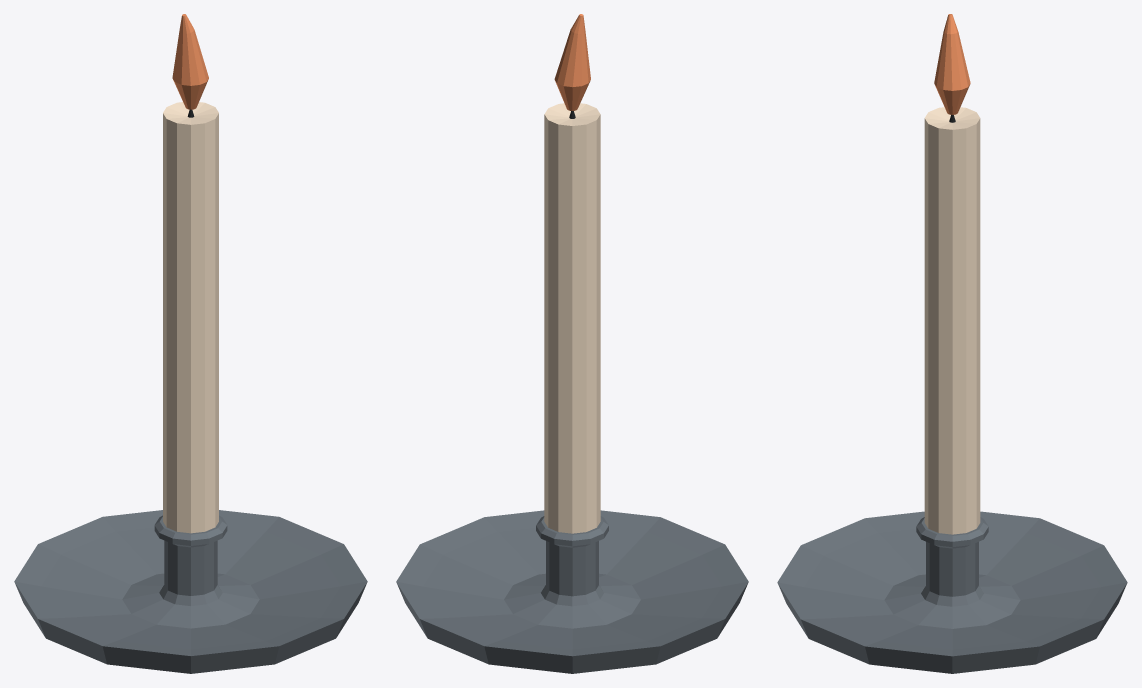
Rendered from Candle.fbx.
3 views of the same model, side by side, from view 1: azimuth 30°, elevation 25°; view 2: azimuth 150°, elevation 25°; view 3: azimuth 270°, elevation 25° (orthographic).
Visible parts, largest first — view 1: Circle; view 2: Circle; view 3: Circle.
Part boxes in pixels (x1=…): Circle: x1=14, y1=14, x2=367, y2=673; Circle: x1=396, y1=14, x2=748, y2=673; Circle: x1=777, y1=14, x2=1127, y2=673.
Size of the model in its own units: 447 by 845 by 447.
